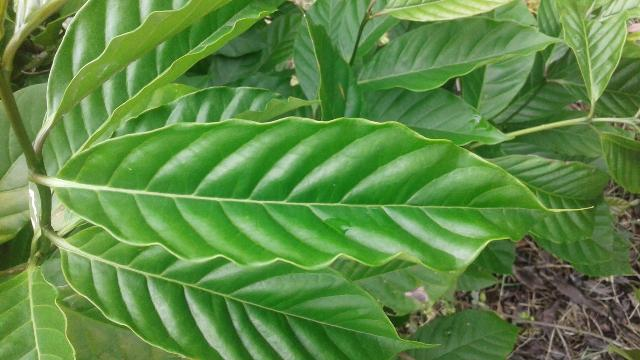healthy: (48, 112, 606, 273)
